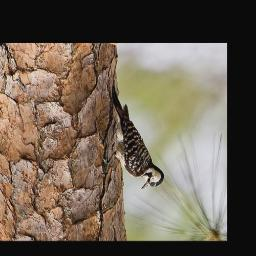Woodpecker: (102, 80, 164, 189)
